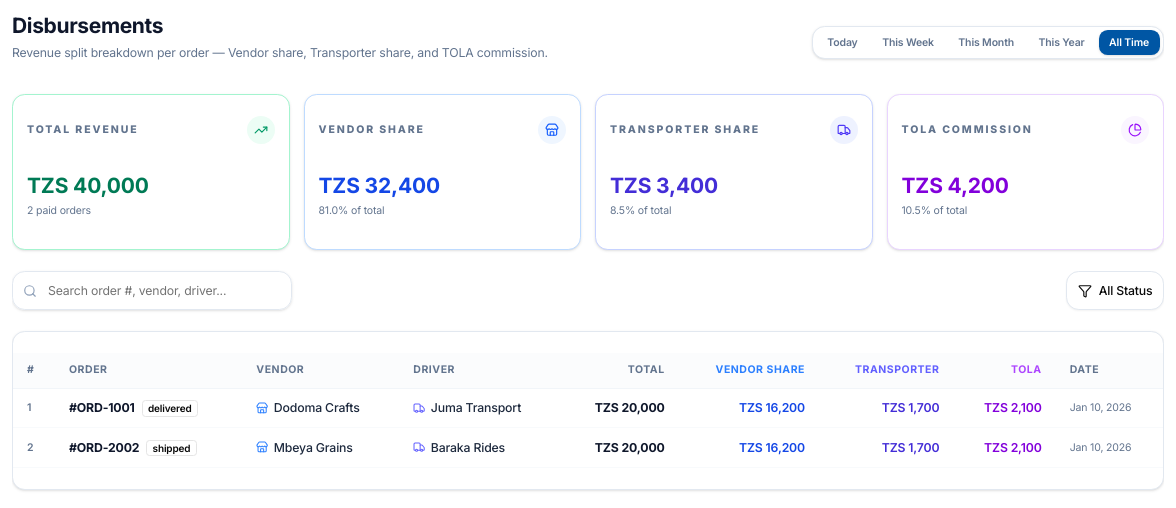
FinanceDisbursementsTab › search and status filter › filters by vendor name
The width and height of the screenshot is (1176, 508).
Type "mbeya" into the field with placeholder "Search order #, vendor, driver..." at (152, 291), box [12,271,292,310]
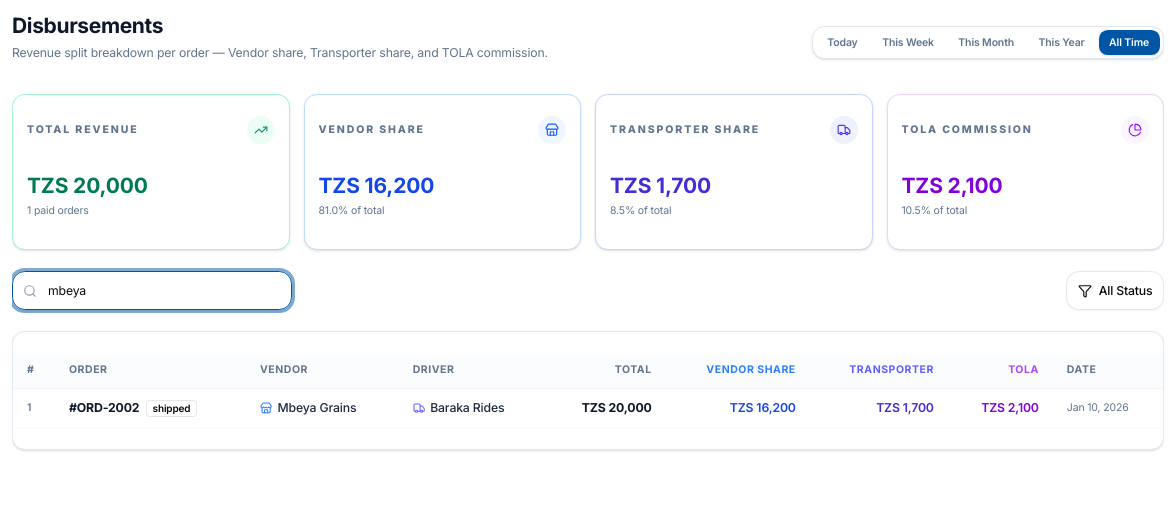
Expected: the text "#ORD-2002" is shown, [69,400,139,415]
Expected: the text "#ORD-1001" is gone
